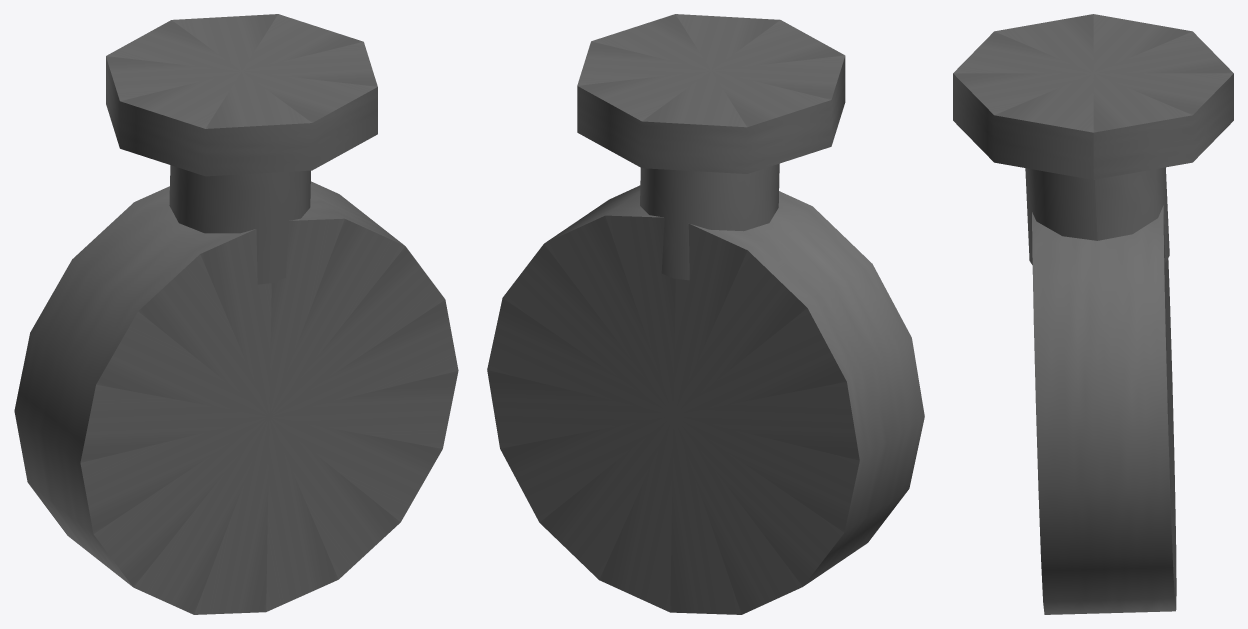
The model's file is mastarmcurve_8x2_c9_up.obj.
The picture shows the model from 3 angles, left to right: view 1: azimuth 30°, elevation 25°; view 2: azimuth 150°, elevation 25°; view 3: azimuth 270°, elevation 25°; orthographic projection.
Visible parts, largest first — view 1: mastarm_8x2_c9_up; view 2: mastarm_8x2_c9_up; view 3: mastarm_8x2_c9_up.
Part boxes in pixels (x1=…): mastarm_8x2_c9_up: x1=14, y1=14, x2=458, y2=614; mastarm_8x2_c9_up: x1=487, y1=14, x2=924, y2=614; mastarm_8x2_c9_up: x1=953, y1=14, x2=1233, y2=614.
Bounding box in the file's own units: 0.6201 × 0.8194 × 0.4.
